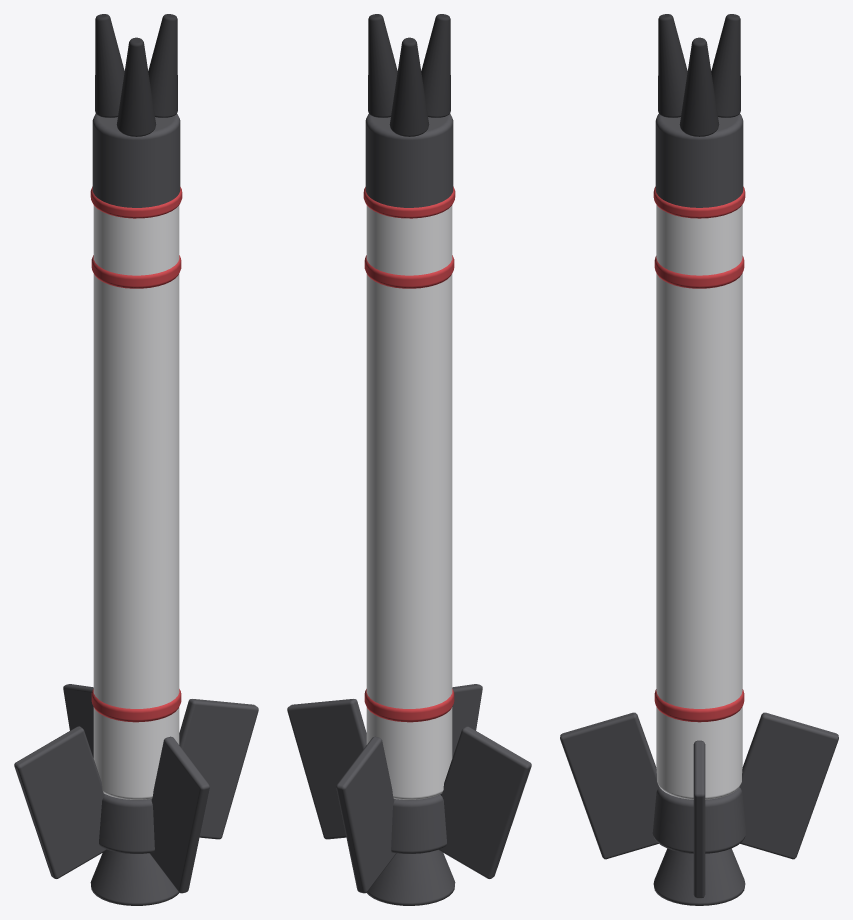
File: mirv.glb
3 views of the same model, side by side, from view 1: azimuth 30°, elevation 25°; view 2: azimuth 150°, elevation 25°; view 3: azimuth 270°, elevation 25° (orthographic).
Parts seen in each view (by area): view 1: Body.001, Fin_3.001, Bus, Fin_1.001, Fin_4.001, Nozzle.001, TailSkirt.001, RV_3, RV_1, RV_2, Fin_2.001, Band_Fwd.001 (+2 smaller); view 2: Body.001, Fin_3.001, Bus, Fin_1.001, Fin_2.001, Nozzle.001, TailSkirt.001, RV_2, RV_1, RV_3, Fin_4.001, Band_Fwd.001 (+2 smaller); view 3: Body.001, Fin_2.001, Fin_4.001, Bus, TailSkirt.001, Nozzle.001, RV_1, RV_2, RV_3, Fin_1.001, Band_Fwd.001, Band_Aft.001 (+1 smaller).
Boxes of the visible parts, left/top/right/bottom form: Body.001: left=93, top=205, right=179, bottom=799; Fin_3.001: left=14, top=726, right=107, bottom=878; Bus: left=92, top=113, right=180, bottom=207; Fin_1.001: left=179, top=699, right=258, bottom=839; Fin_4.001: left=149, top=736, right=209, bottom=893; Nozzle.001: left=90, top=850, right=179, bottom=905; TailSkirt.001: left=99, top=794, right=154, bottom=853; RV_3: left=116, top=37, right=156, bottom=136; RV_1: left=148, top=14, right=177, bottom=117; RV_2: left=95, top=14, right=124, bottom=117; Fin_2.001: left=63, top=684, right=93, bottom=757; Band_Fwd.001: left=91, top=255, right=181, bottom=288; Body.001: left=366, top=205, right=452, bottom=799; Fin_3.001: left=438, top=726, right=531, bottom=878; Bus: left=365, top=113, right=453, bottom=207; Fin_1.001: left=287, top=699, right=366, bottom=839; Fin_2.001: left=336, top=736, right=396, bottom=893; Nozzle.001: left=366, top=850, right=455, bottom=905; TailSkirt.001: left=391, top=794, right=446, bottom=853; RV_2: left=389, top=37, right=429, bottom=136; RV_1: left=368, top=14, right=397, bottom=117; RV_3: left=421, top=14, right=450, bottom=117; Fin_4.001: left=452, top=684, right=482, bottom=757; Band_Fwd.001: left=364, top=255, right=454, bottom=288; Body.001: left=656, top=205, right=742, bottom=799; Fin_2.001: left=739, top=712, right=838, bottom=859; Fin_4.001: left=560, top=712, right=659, bottom=859; Bus: left=655, top=114, right=743, bottom=207; TailSkirt.001: left=652, top=787, right=746, bottom=853; Nozzle.001: left=653, top=848, right=745, bottom=905; RV_1: left=679, top=37, right=719, bottom=136; RV_2: left=711, top=14, right=740, bottom=117; RV_3: left=658, top=14, right=687, bottom=117; Fin_1.001: left=693, top=740, right=705, bottom=898; Band_Fwd.001: left=654, top=256, right=744, bottom=288; Band_Aft.001: left=654, top=689, right=744, bottom=722.
Size of the model in its own units: 0.2914 by 0.9976 by 0.2914.
